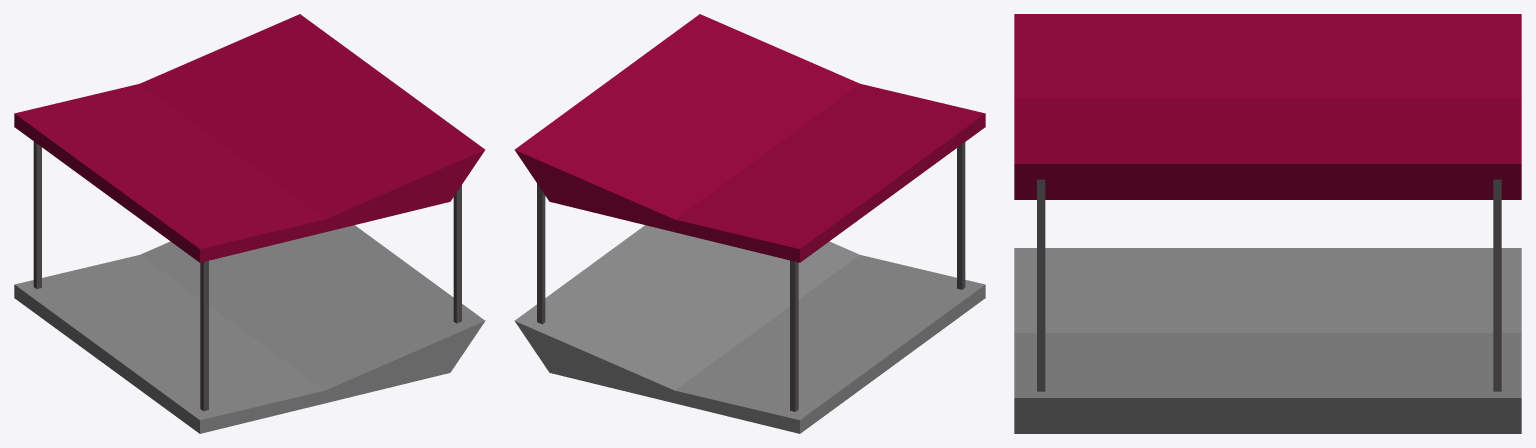
The model's file is TanspolDance.fbx.
The picture shows the model from 3 angles, left to right: view 1: azimuth 30°, elevation 25°; view 2: azimuth 150°, elevation 25°; view 3: azimuth 270°, elevation 25°; orthographic projection. The views are drawn at different scales.
Parts seen in each view (by area): view 1: Cube.005, Cube, Cube.001, Cube.002, Cube.004; view 2: Cube.005, Cube, Cube.002, Cube.001, Cube.003; view 3: Cube.005, Cube, Cube.003, Cube.004.
Part boxes in pixels (x1,y1,x2,y2): Cube.005: (14,14,485,262); Cube: (14,225,485,433); Cube.001: (200,260,208,411); Cube.002: (33,141,41,288); Cube.004: (453,185,461,323); Cube.005: (514,14,985,262); Cube: (514,225,985,433); Cube.002: (790,260,798,411); Cube.001: (957,142,965,289); Cube.003: (537,183,545,324); Cube.005: (1014,14,1521,199); Cube: (1014,248,1521,433); Cube.003: (1493,179,1501,391); Cube.004: (1037,179,1045,391).
Size of the model in its own units: 2141 by 1537 by 2408.
